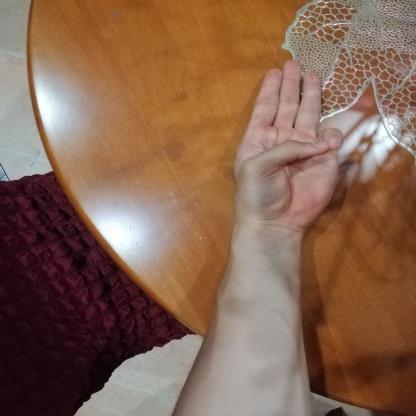THA: (216, 48, 355, 235)
